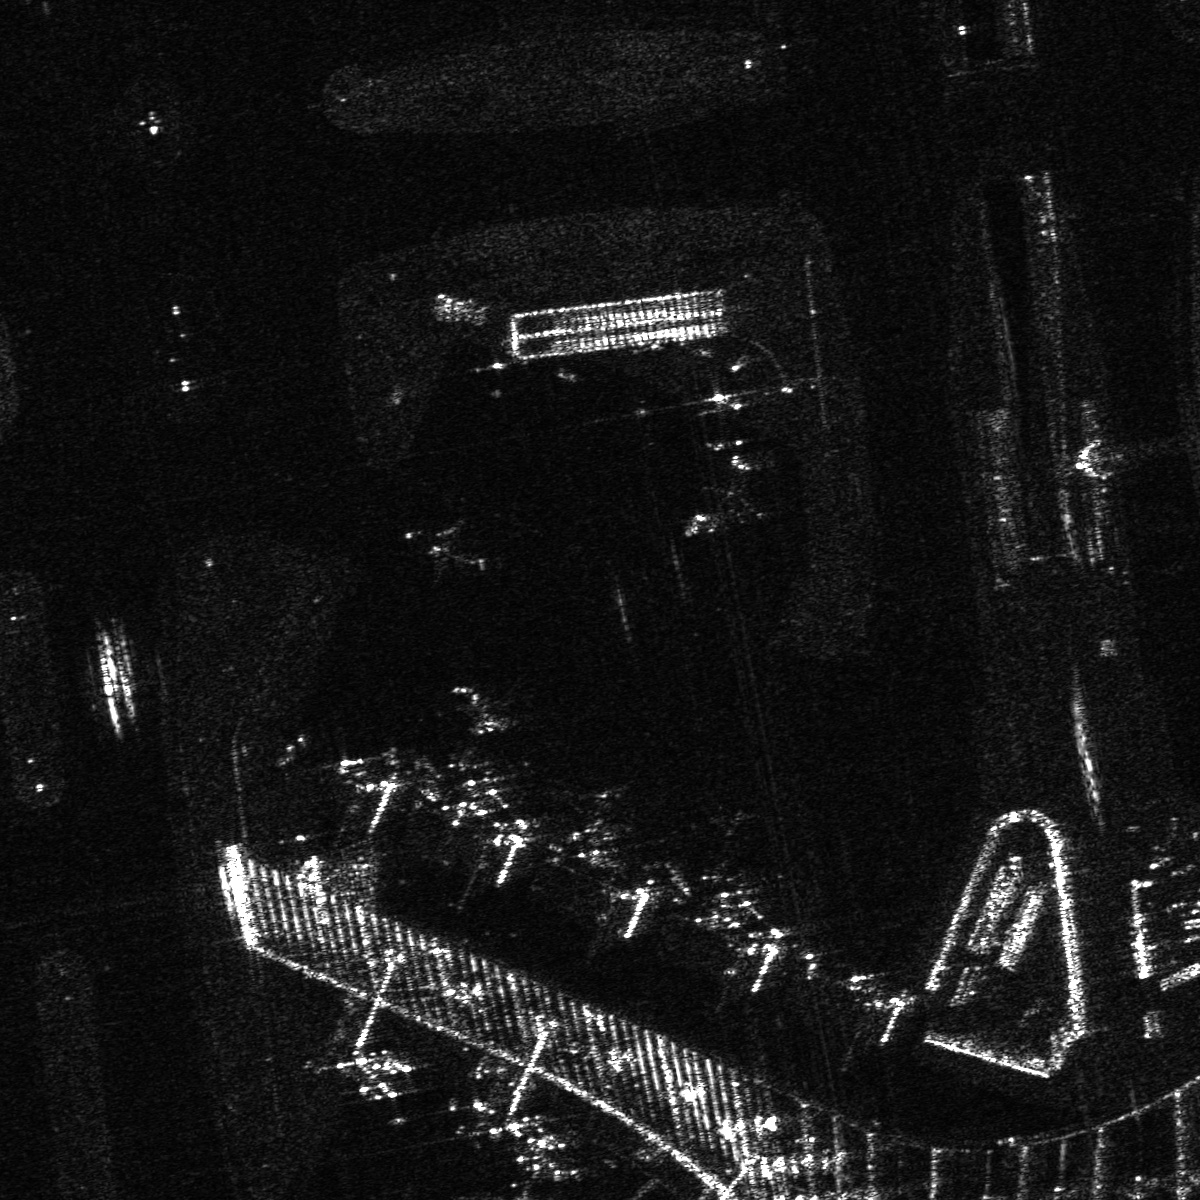Boeing787: (673, 464, 769, 542), (433, 767, 511, 812), (453, 1181, 573, 1199)
other: (398, 515, 491, 587)
